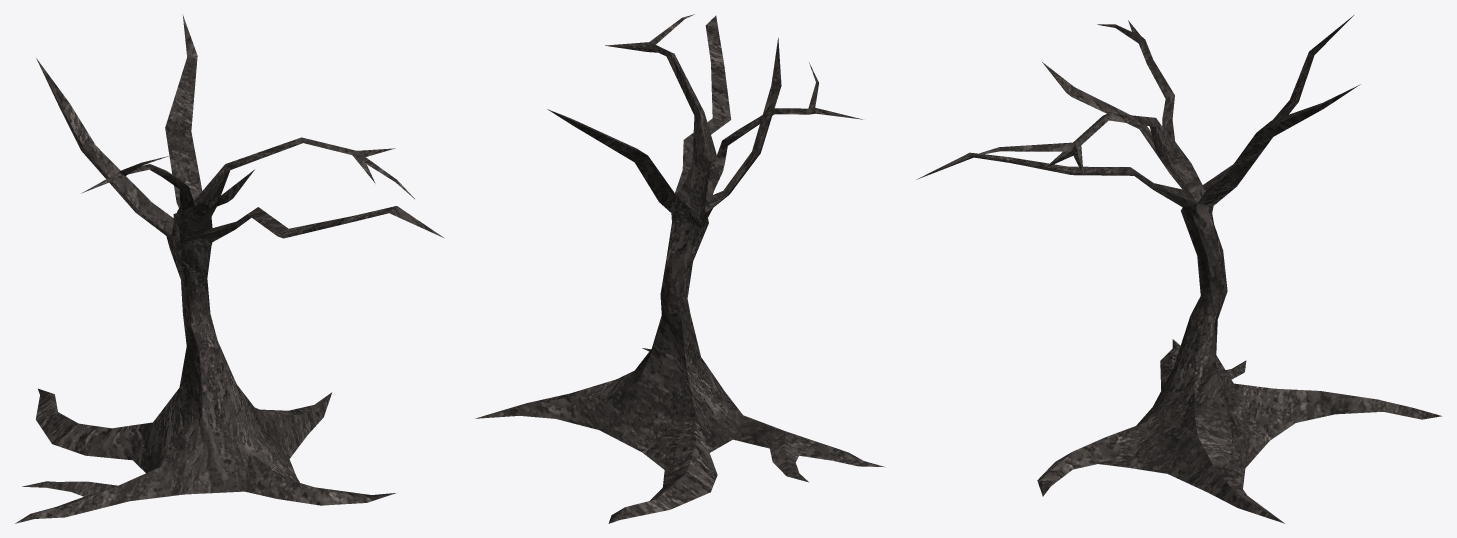
The model's file is DeadTree.fbx.
The picture shows the model from 3 angles, left to right: view 1: azimuth 30°, elevation 25°; view 2: azimuth 150°, elevation 25°; view 3: azimuth 270°, elevation 25°; orthographic projection. The views are drawn at different scales.
Parts seen in each view (by area): view 1: DeadTree; view 2: DeadTree; view 3: DeadTree.
Boxes of the visible parts, <box> form: DeadTree: <box>15,14,444,523</box>; DeadTree: <box>475,14,885,523</box>; DeadTree: <box>916,15,1442,523</box>.
Size of the model in its own units: 523 by 506 by 631.
Materials: 1 (1 with a texture image).
